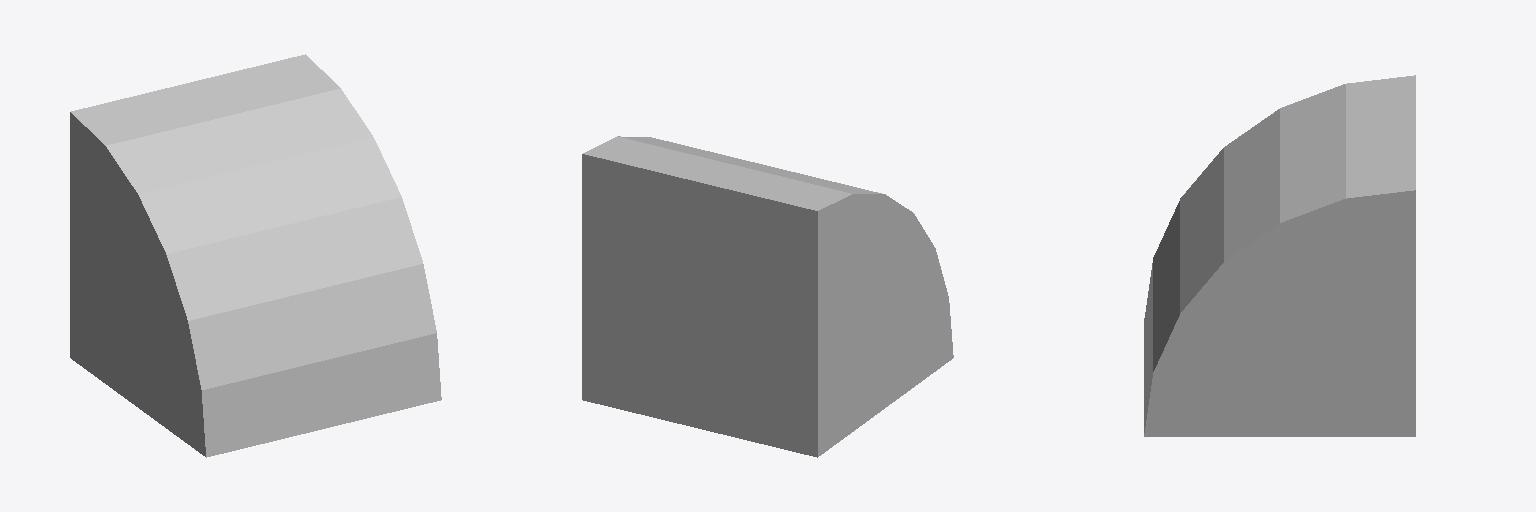
The picture shows the model from 3 angles: view 1: azimuth 30°, elevation 25°; view 2: azimuth 150°, elevation 25°; view 3: azimuth 270°, elevation 25°; orthographic projection.
Visible parts, largest first — view 1: Base04; view 2: Base04; view 3: Base04.
Part boxes in pixels (bbox=[...]): Base04: bbox=[70, 54, 441, 457]; Base04: bbox=[582, 136, 953, 457]; Base04: bbox=[1144, 75, 1415, 436].
Bounding box in the file's own units: 2 × 2 × 2.